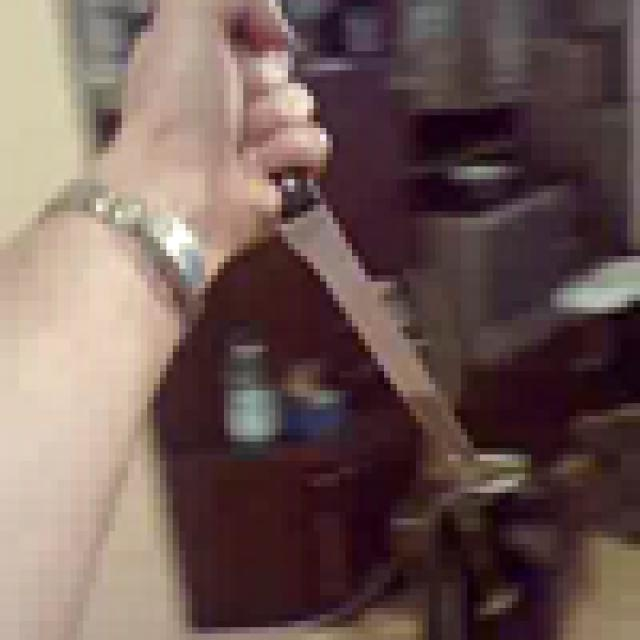Weapons: (189, 60, 500, 477)
